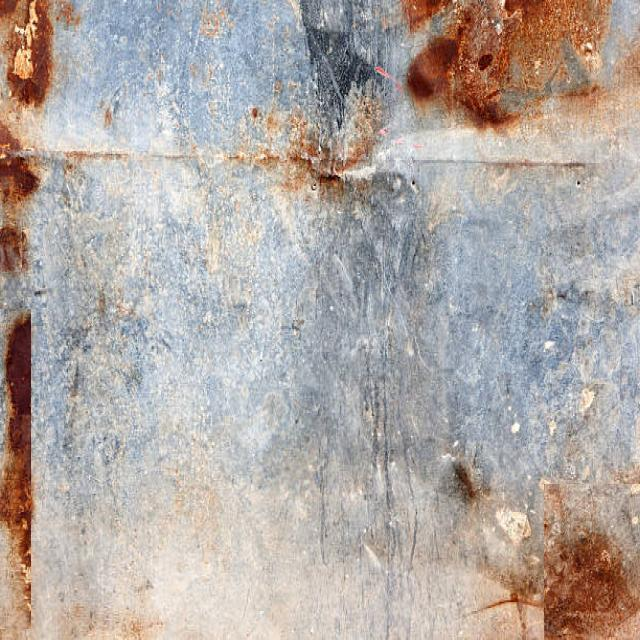Corrosion: (403, 0, 612, 123), (0, 99, 39, 640), (547, 486, 640, 640), (0, 0, 52, 110)
